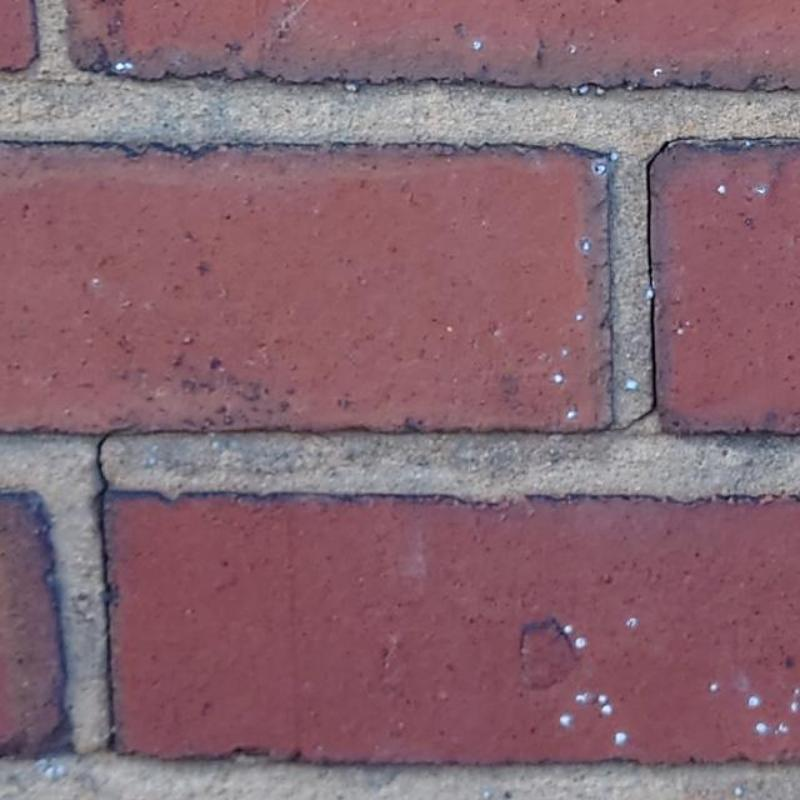pothole: (601, 134, 702, 431), (92, 432, 120, 752)
